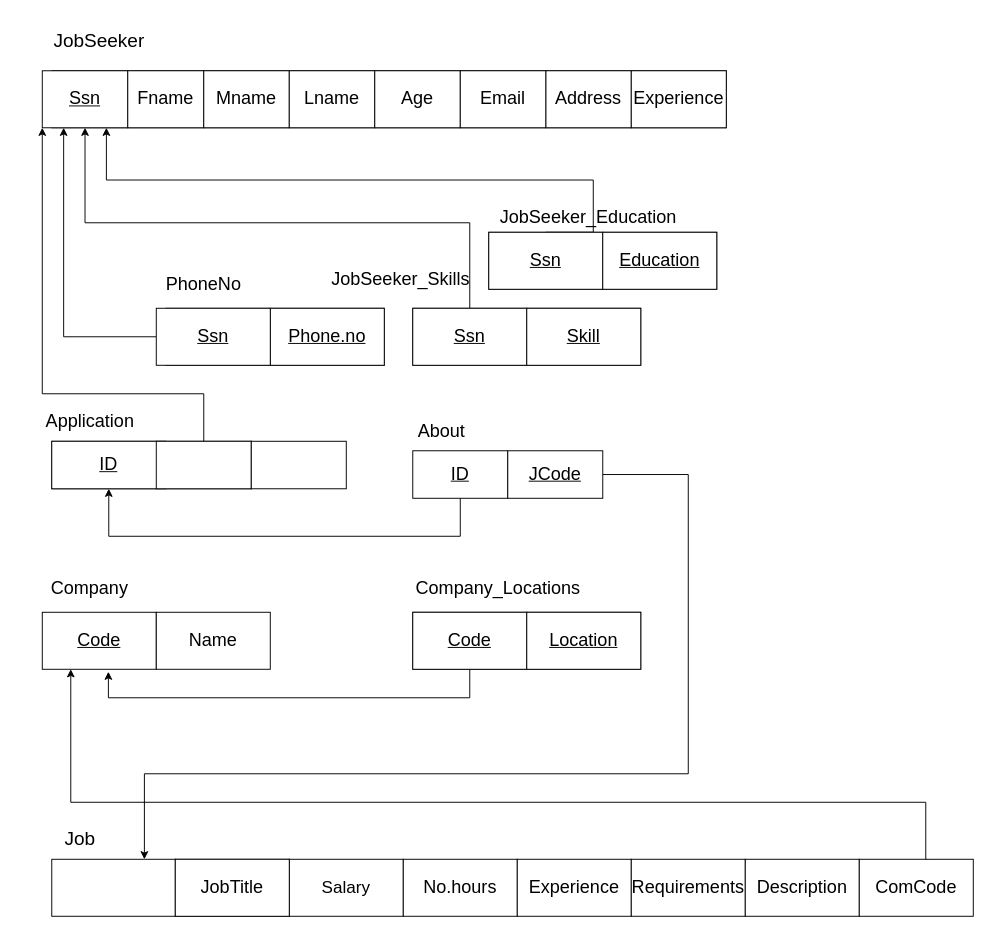
Some shapes in this 990 by 933 pixel diagram are drawn without their labels. Each missing label, with the centre of its shape:
Date: (x=298, y=464)
JobCode: (x=113, y=887)
JSSN: (x=203, y=464)
